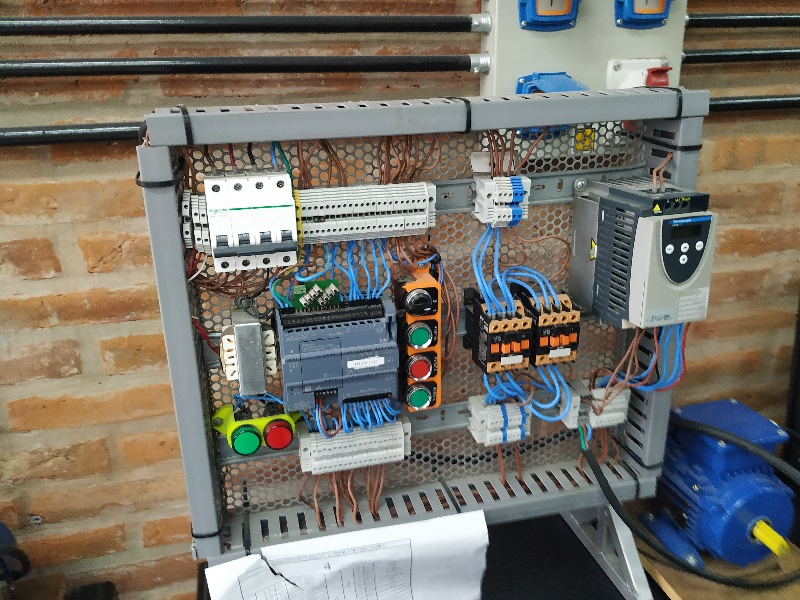Tablero 4: (153, 118, 723, 515)
